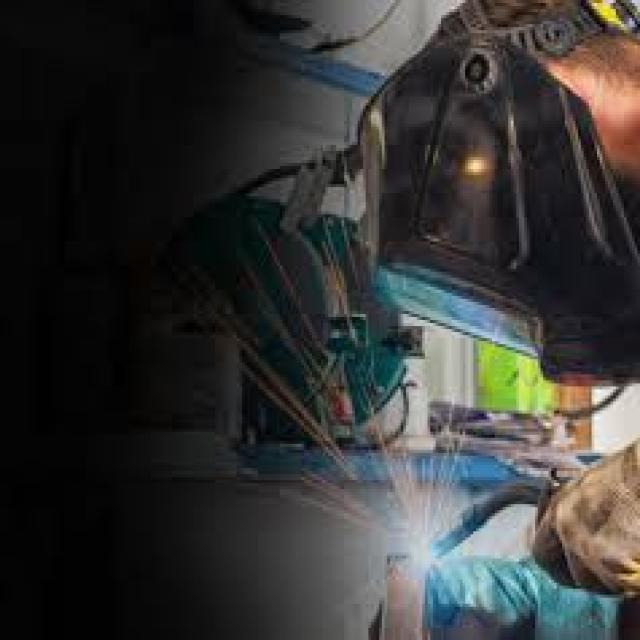welding: (402, 534, 445, 576)
